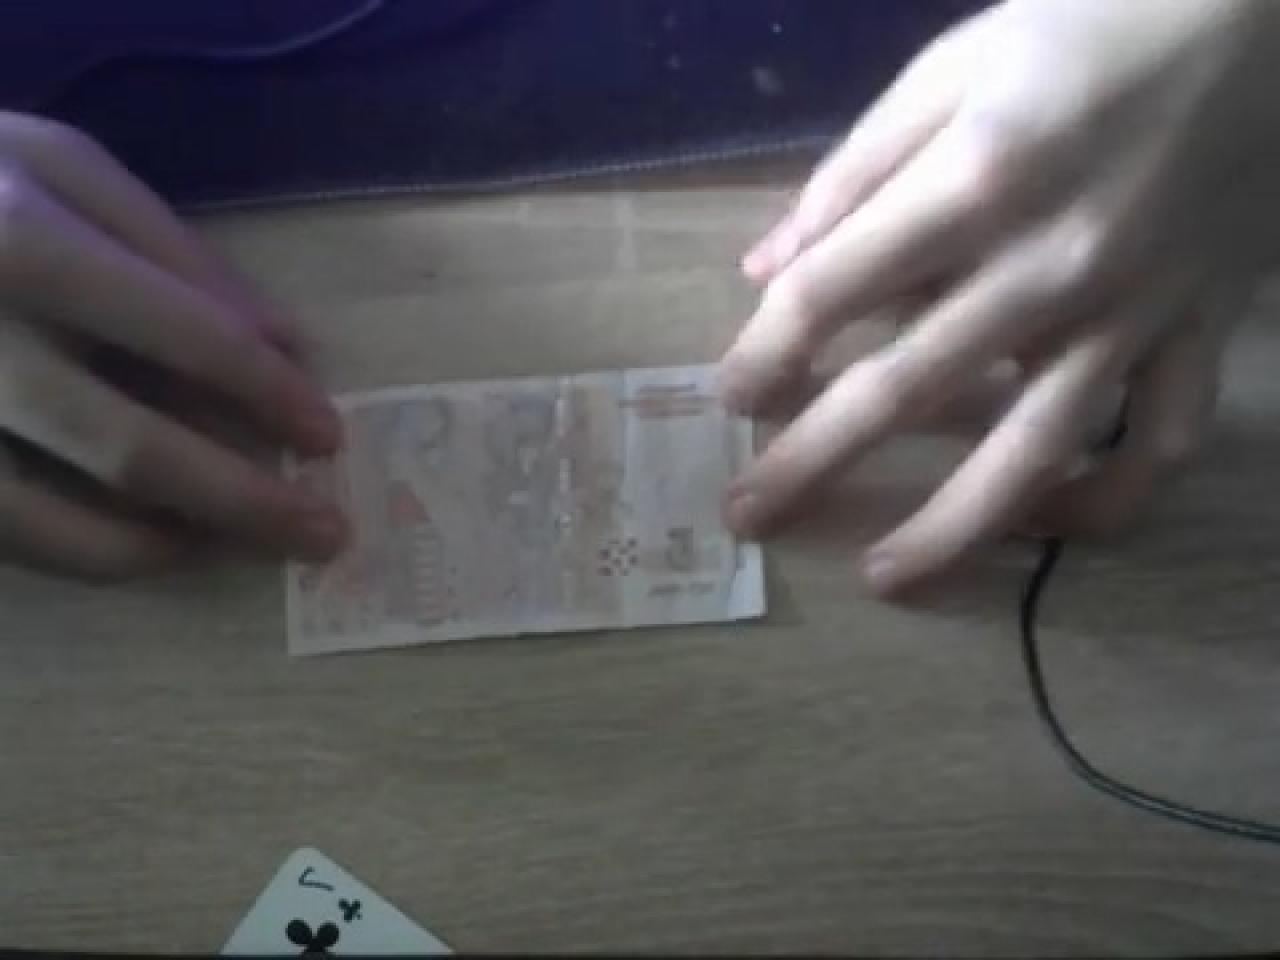5leva: (282, 363, 768, 662)
